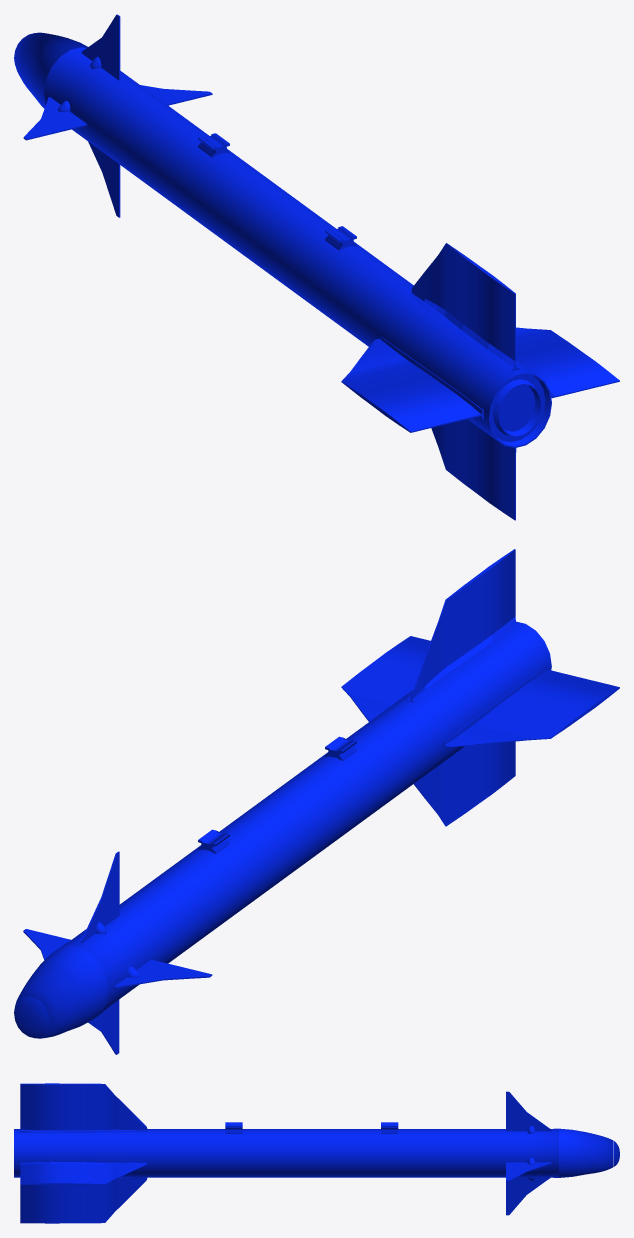
File: missile.glb
3 renders of one model, top to bottom at view 1: azimuth 30°, elevation 25°; view 2: azimuth 150°, elevation 25°; view 3: azimuth 270°, elevation 25°, orthographic. The views are drawn at different scales.
Parts seen in each view (by area): view 1: AIM-9 SIDEWINDER.001; view 2: AIM-9 SIDEWINDER.001; view 3: AIM-9 SIDEWINDER.001.
Boxes of the visible parts, x1,y1,x2,y2 form: AIM-9 SIDEWINDER.001: (14, 14, 619, 520); AIM-9 SIDEWINDER.001: (14, 549, 619, 1054); AIM-9 SIDEWINDER.001: (14, 1083, 619, 1223).
Bounding box in the file's own units: 88.68 × 91.74 × 362.
